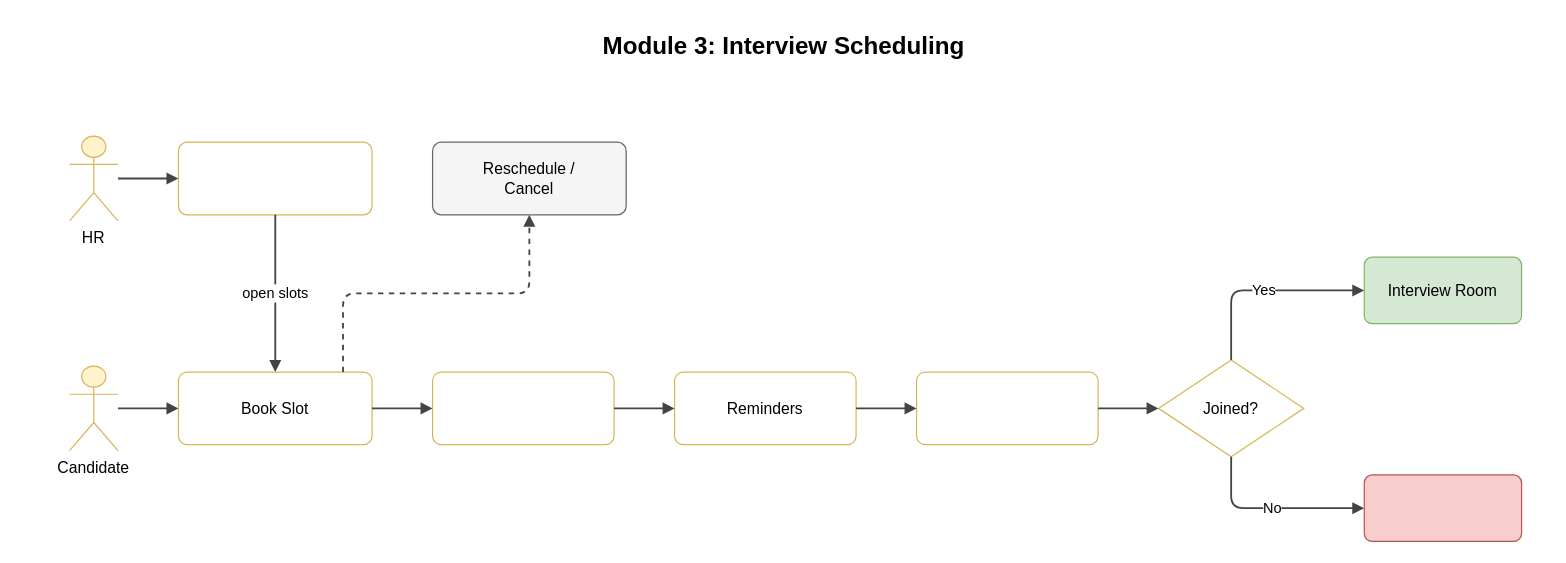
The diagram is 1566 pixels wide and 563 high, and some of its shapes have lost their labels. Each missing label, with the centre of its shape:
"Create Slots" goes at point 274,178.
"Interview Time" goes at point 1006,408.
"Invite Email (.ics)" goes at point 522,408.
"No-show" goes at point 1442,507.
